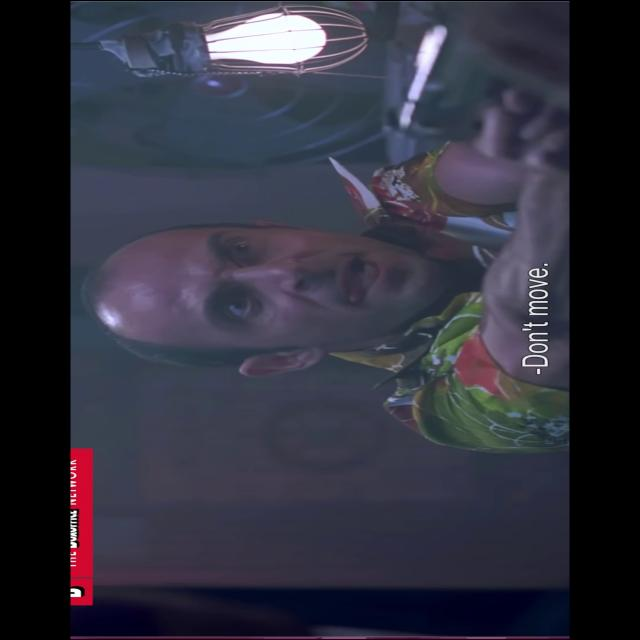weapons: (379, 19, 565, 160)
